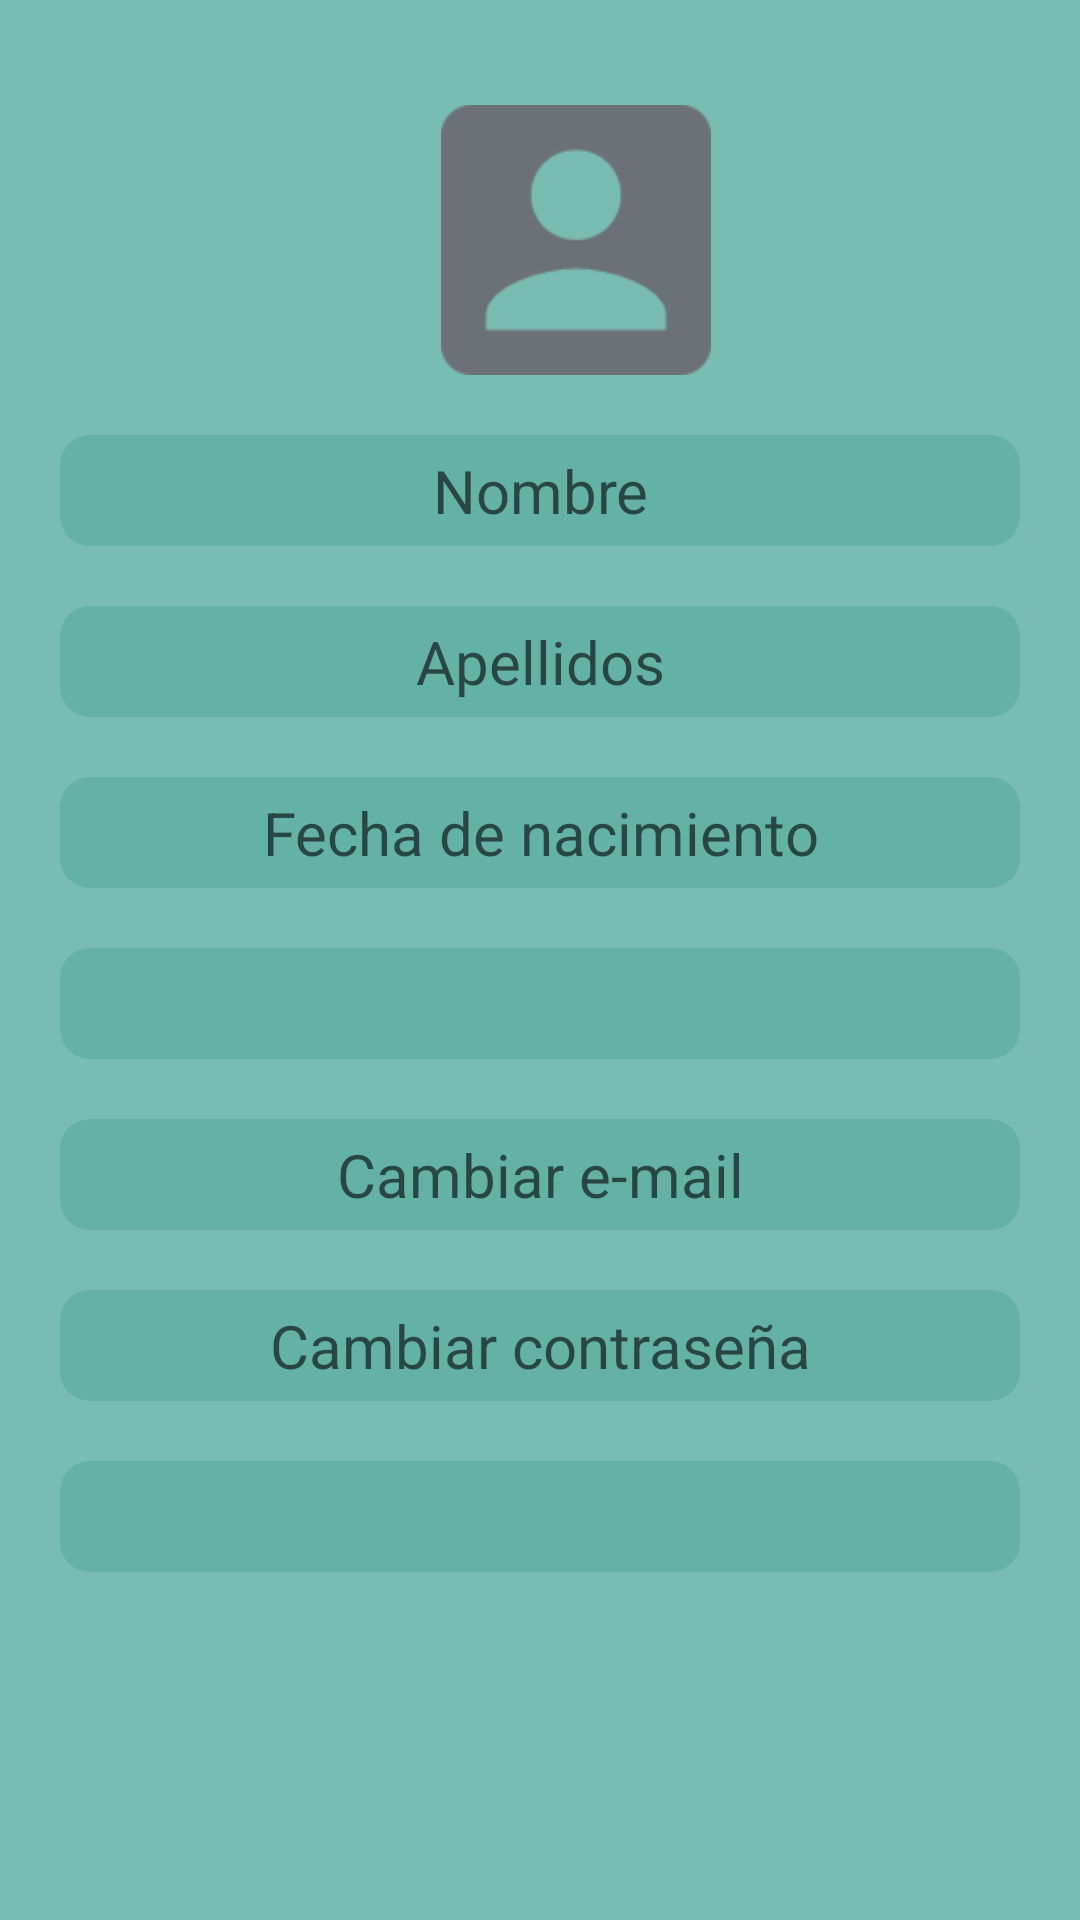

Named icons in this screenshot (1080px×1920px) and their bounding boxes, region(x1, y1, x2, y2):
user: region(441, 105, 711, 375)
